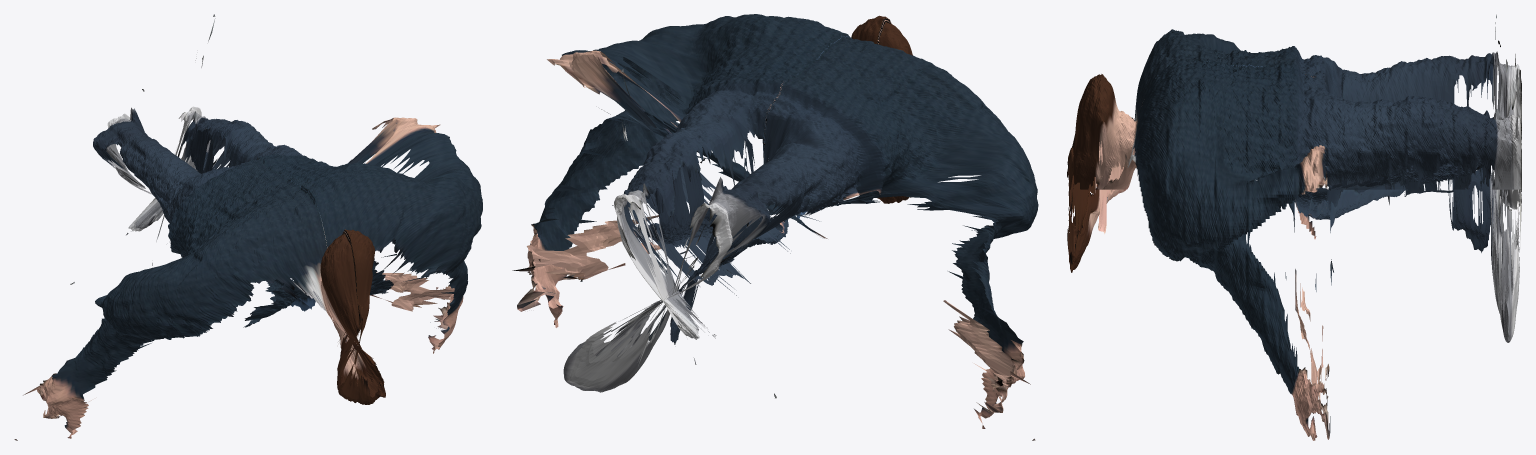
3 views of the same model, side by side, from view 1: azimuth 30°, elevation 25°; view 2: azimuth 150°, elevation 25°; view 3: azimuth 270°, elevation 25° (orthographic). The views are drawn at different scales.
Visible parts, largest first — view 1: geometry_0; view 2: geometry_0; view 3: geometry_0.
Part boxes in pixels (bbox=[...]): geometry_0: bbox=[14, 14, 482, 440]; geometry_0: bbox=[512, 14, 1038, 440]; geometry_0: bbox=[1067, 14, 1521, 440].
Bounding box in the file's own units: 1.7 × 1.15 × 1.34.
Materials: 1 (1 with a texture image).
